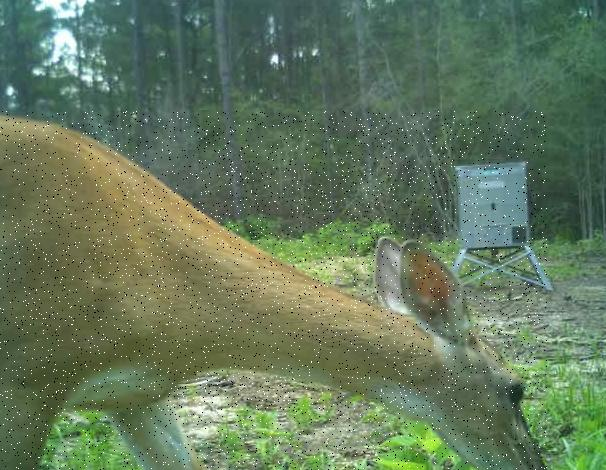Deer: (0, 111, 547, 470)
